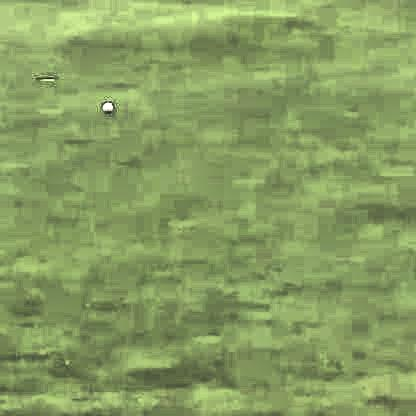golfball: (100, 100, 111, 112)
